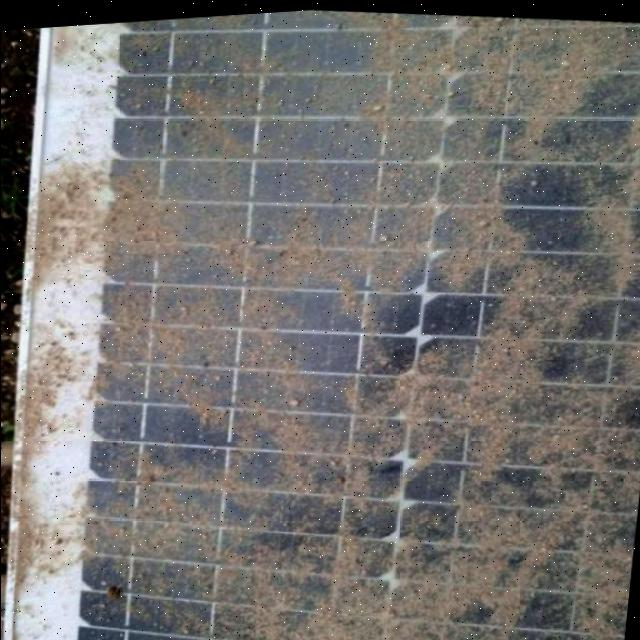Anomaly Solar Panel: (25, 0, 640, 640)
Surface Contaminant: (43, 6, 640, 640)
